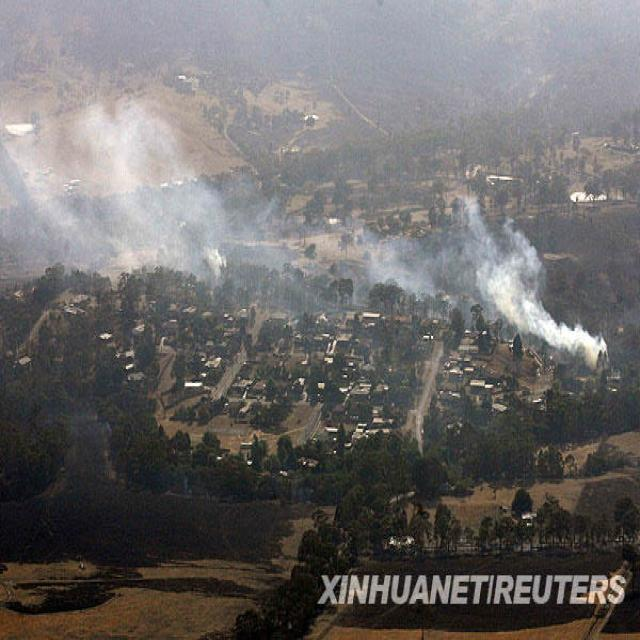smoke: (8, 101, 226, 271), (458, 199, 608, 367), (363, 236, 452, 296)
